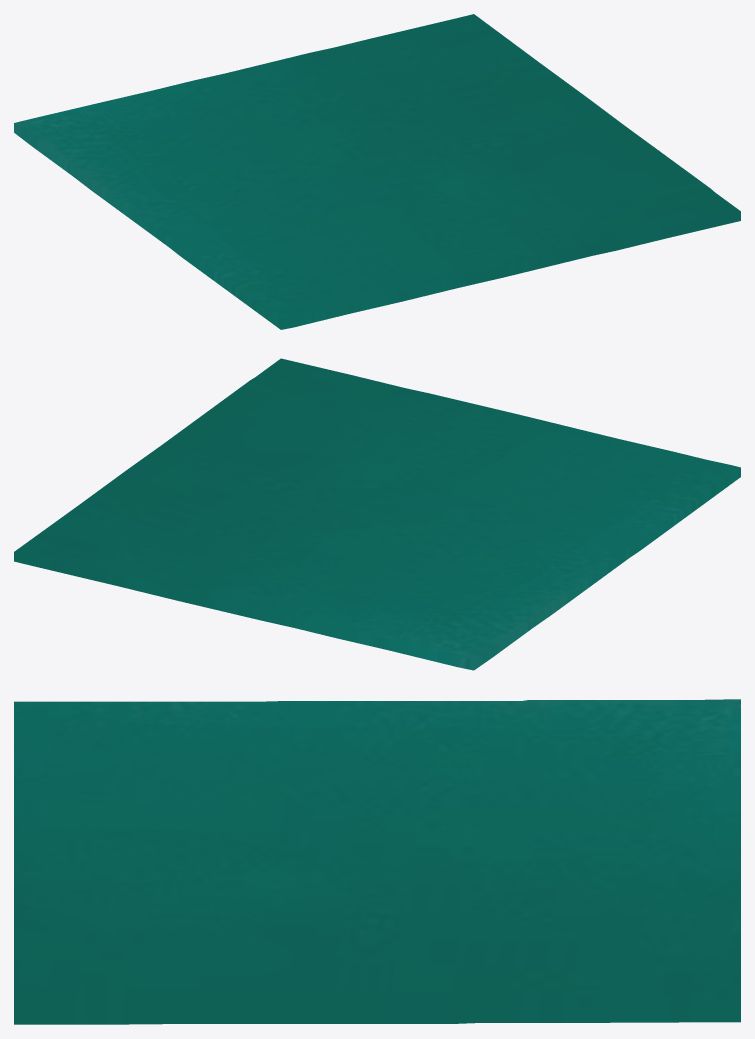
File: z20-167554-405168-h0-yup-uvflip-v3-world.glb
The picture shows the model from 3 angles, top to bottom: view 1: azimuth 30°, elevation 25°; view 2: azimuth 150°, elevation 25°; view 3: azimuth 270°, elevation 25°; orthographic projection. The views are drawn at different scales.
Size of the model in its own units: 30.16 by 0.92 by 30.32.
1 material, 1 textured.
